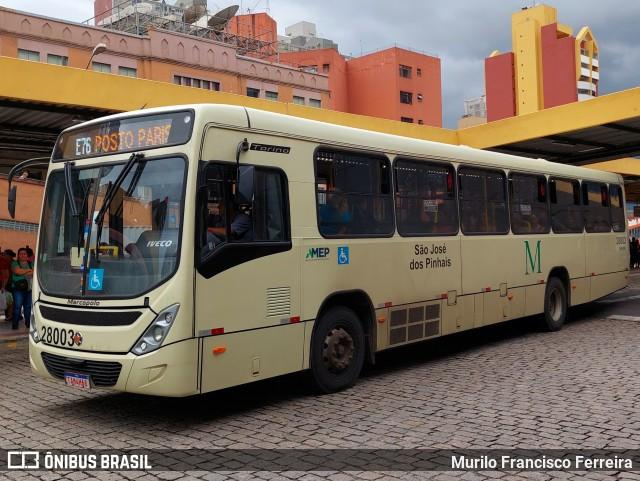POSTO PARIS: (91, 121, 176, 154)
